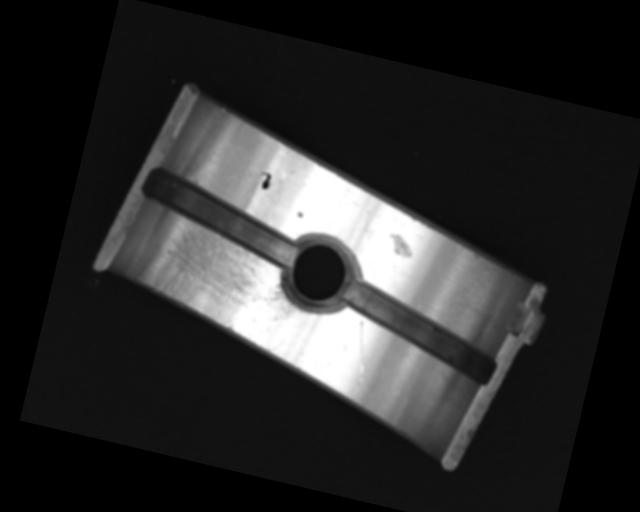blot: (255, 170, 274, 191)
bruise: (384, 232, 416, 261), (296, 210, 304, 217)
gap: (332, 276, 506, 385), (133, 164, 309, 267)
hole: (275, 227, 367, 319)
nick: (347, 320, 375, 382)
scratch: (127, 203, 313, 356)
